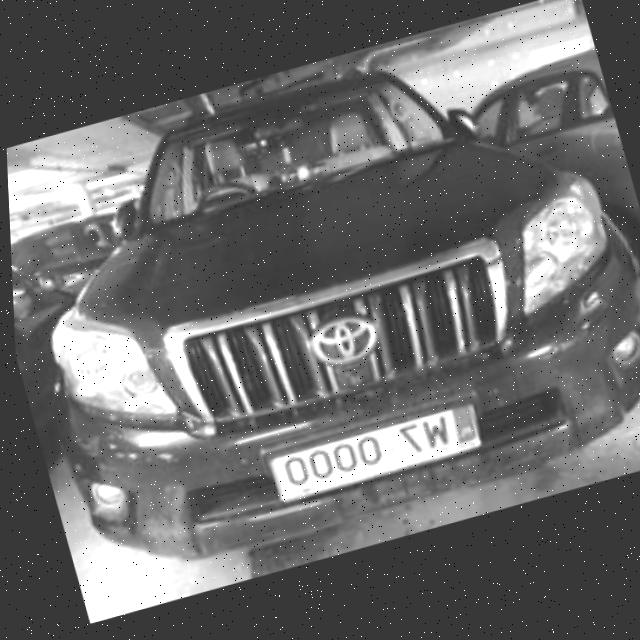license-plates: (269, 405, 481, 503)
